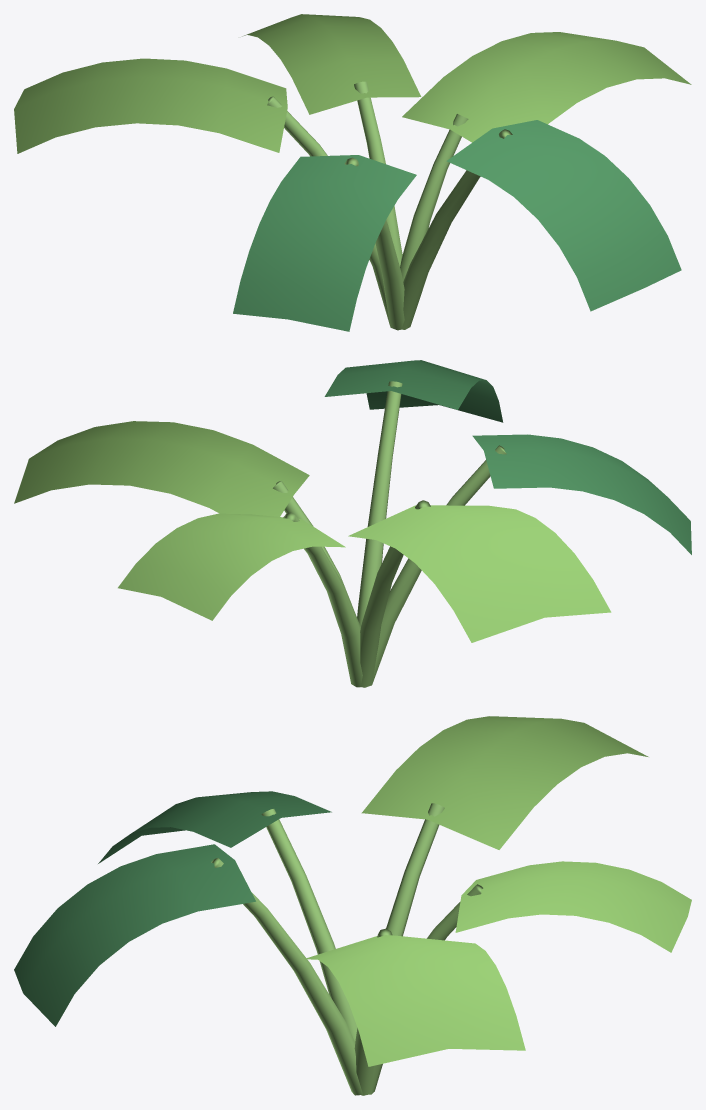
File: plant_broadleaf_3.glb
3 renders of one model, top to bottom at view 1: azimuth 30°, elevation 25°; view 2: azimuth 150°, elevation 25°; view 3: azimuth 270°, elevation 25°, orthographic. The views are drawn at different scales.
Visible parts, largest first — view 1: plant_broadleaf_3; view 2: plant_broadleaf_3; view 3: plant_broadleaf_3.
Part boxes in pixels (x1,y1,x2,y2): plant_broadleaf_3: (14,14,691,331); plant_broadleaf_3: (14,360,691,687); plant_broadleaf_3: (14,716,691,1095).
Size of the model in its own units: 2.76 by 1.06 by 2.51.
